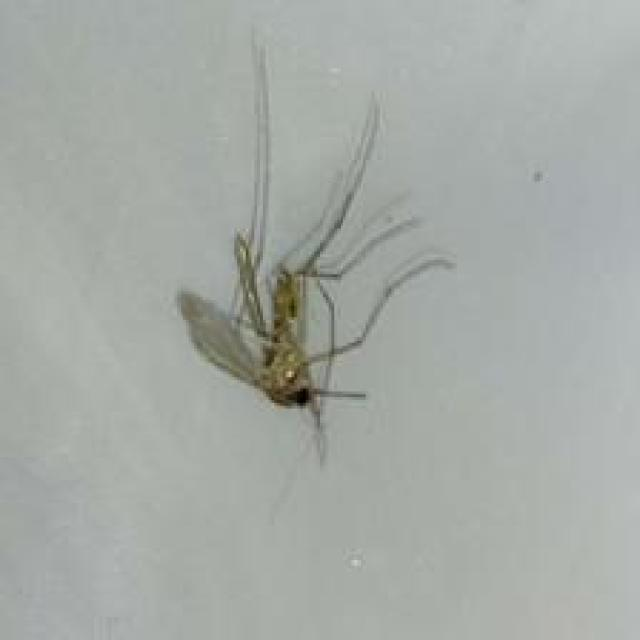Culex: (176, 27, 456, 470)
